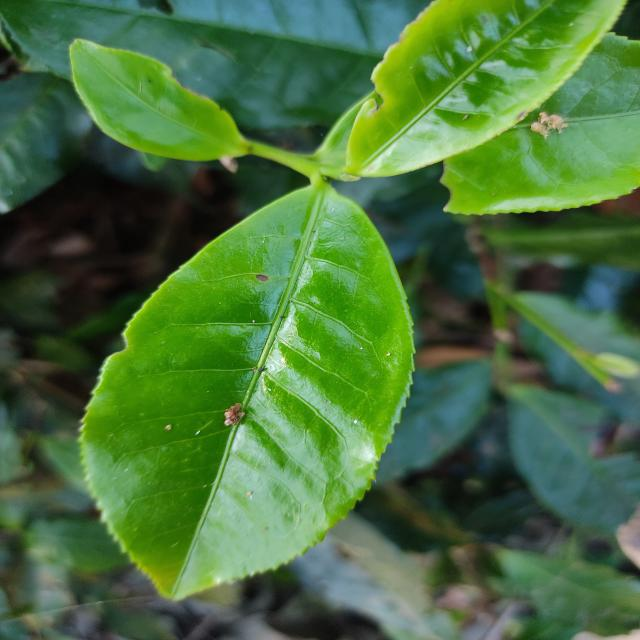Category B(2-4 days): (66, 178, 428, 613)
